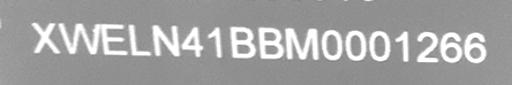letter: (56, 19, 102, 56), (284, 26, 320, 63), (30, 19, 62, 54), (150, 23, 182, 56), (226, 25, 258, 58), (254, 26, 284, 59), (99, 21, 127, 56), (126, 22, 154, 57), (178, 25, 206, 58), (462, 29, 488, 64), (366, 29, 392, 62), (415, 30, 439, 65), (438, 30, 462, 65), (318, 28, 342, 61), (344, 28, 368, 61), (206, 25, 224, 60), (392, 29, 410, 64)
